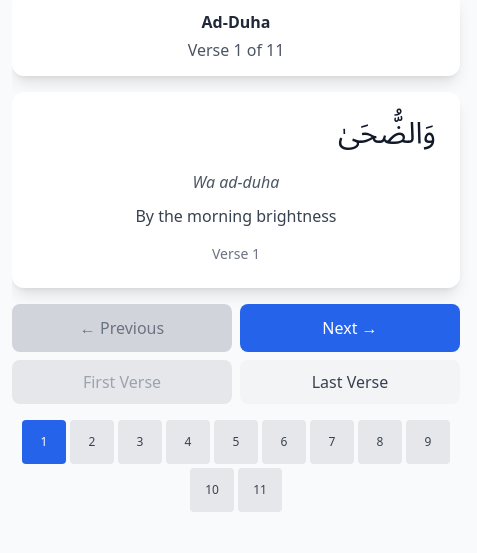
Test case: Reading Mode Integration › should navigate via verse number buttons
Click the button "3": (140, 442) [118, 420, 162, 464]
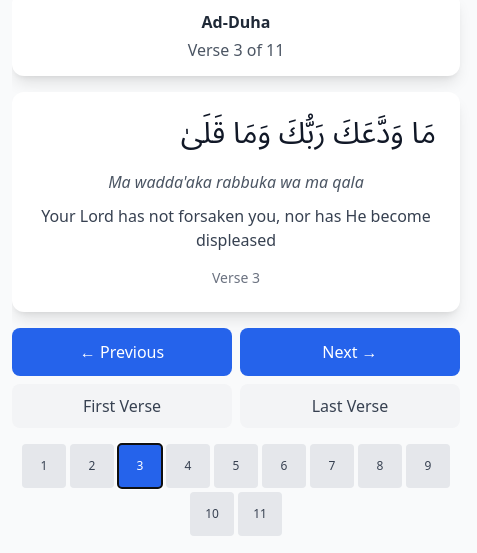
Check: the text "مَا وَدَّعَكَ رَبُّكَ وَمَا قَلَىٰ" is shown, box [181, 102, 436, 165]
Check: the text "Verse 3 of 11" is shown, box [188, 39, 284, 61]
